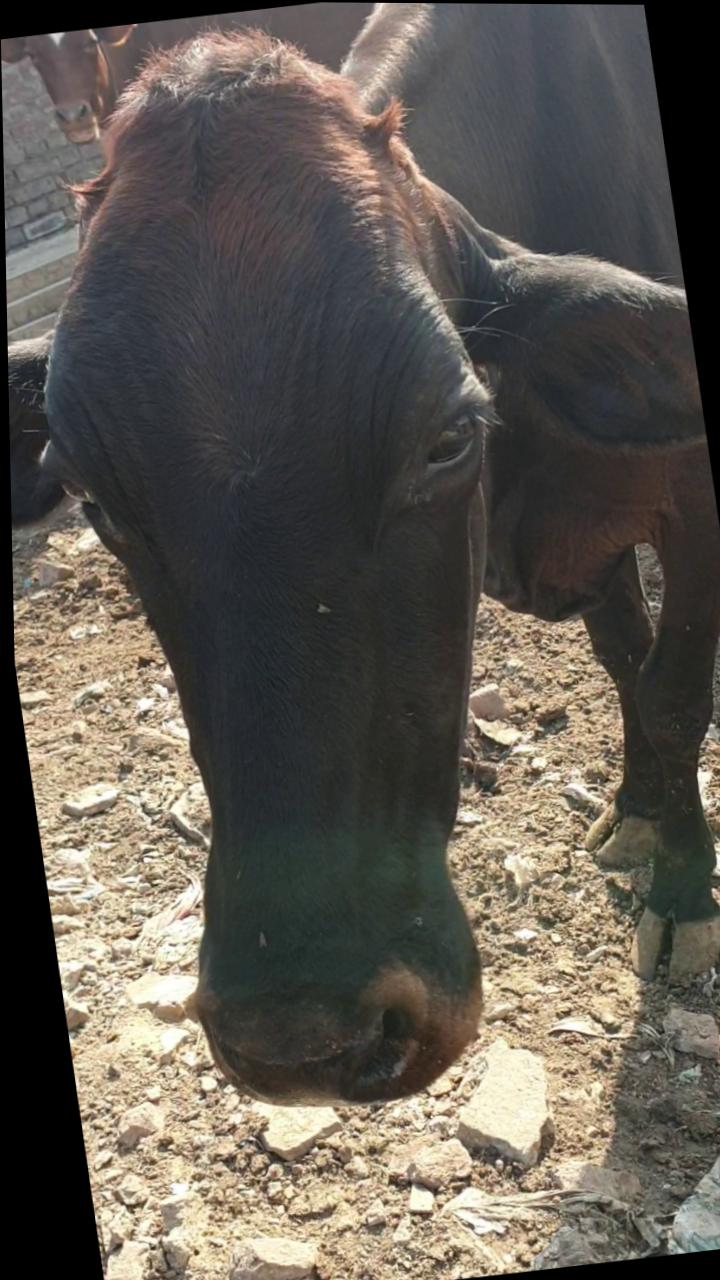cows: (1, 40, 521, 1127)
